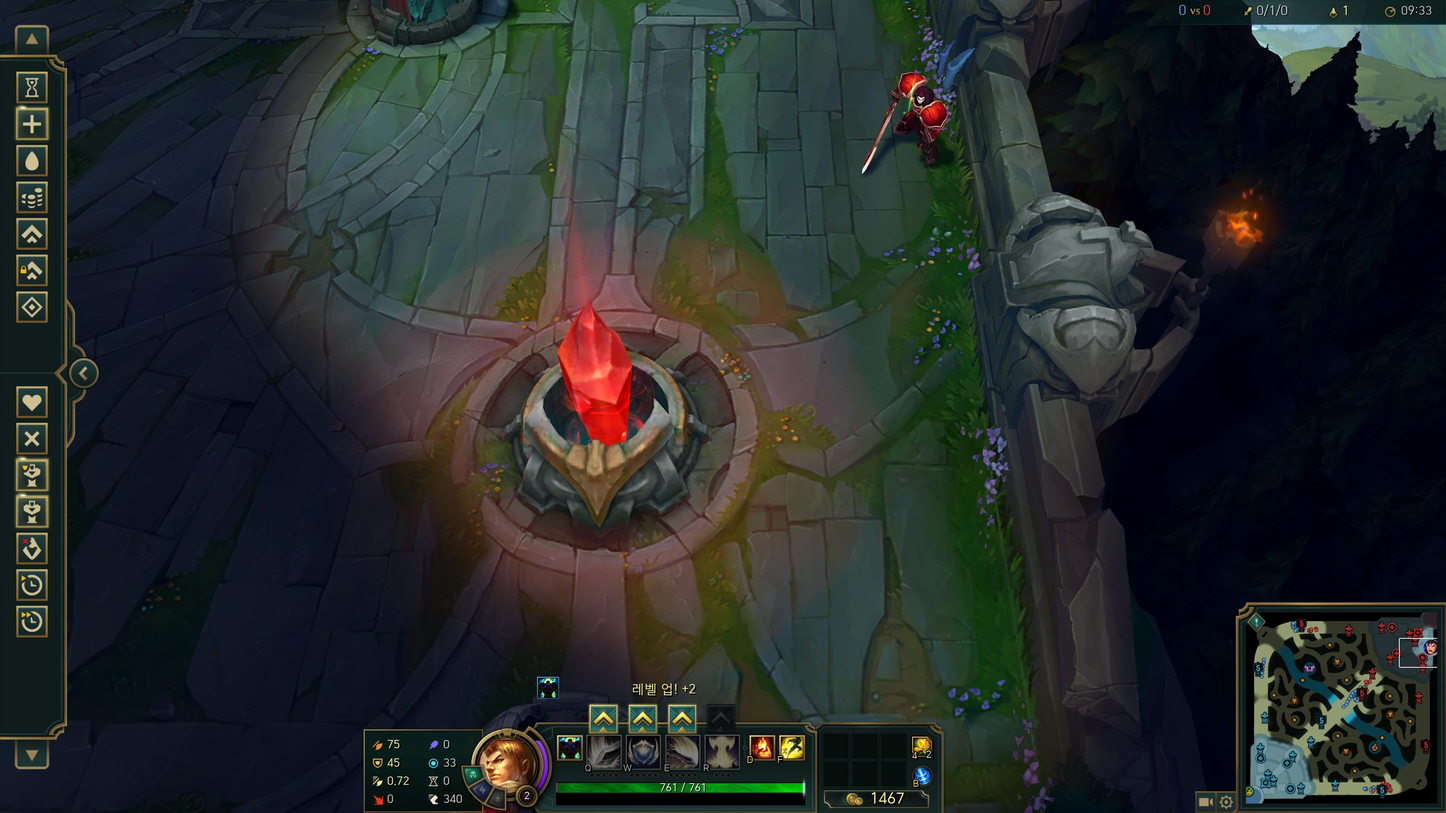enemy-inhibitor: (452, 297, 759, 575)
